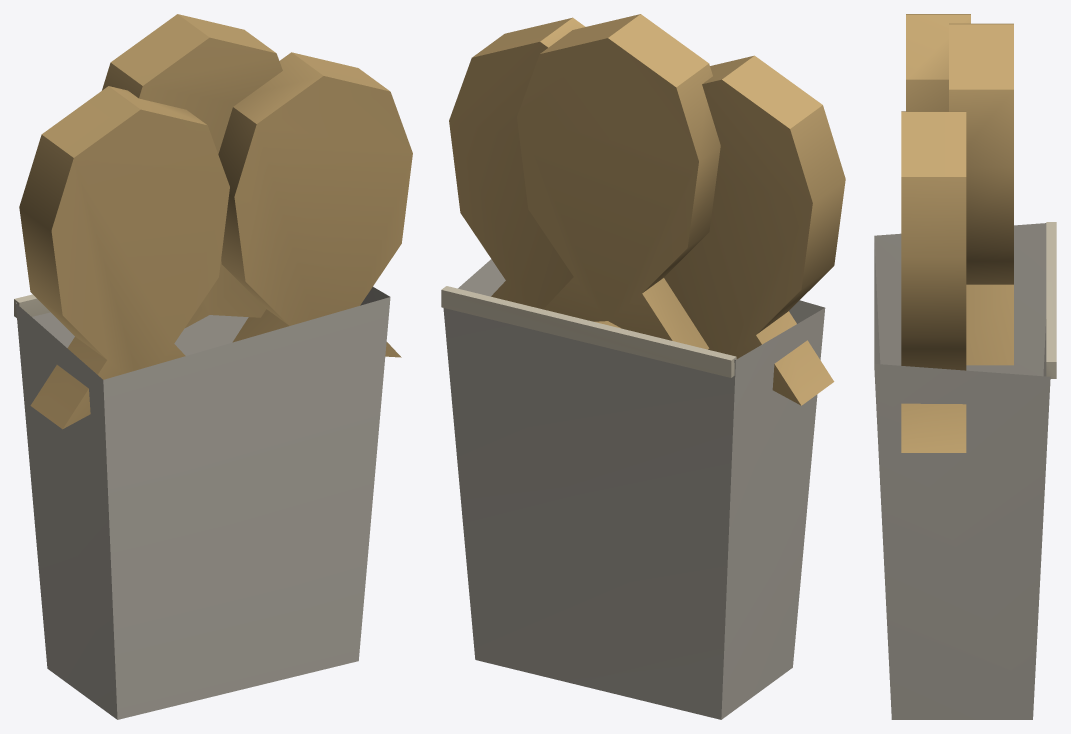
File: snack_fishbread_low.glb
3 views of the same model, side by side, from view 1: azimuth 30°, elevation 25°; view 2: azimuth 150°, elevation 25°; view 3: azimuth 270°, elevation 25° (orthographic). The views are drawn at different scales.
Visible parts, largest first — view 1: snack_fishbread; view 2: snack_fishbread; view 3: snack_fishbread.
Part boxes in pixels (x1,y1,x2,y2): snack_fishbread: (14,14,412,719); snack_fishbread: (441,14,845,719); snack_fishbread: (874,14,1056,719).
Bounding box in the file's own units: 0.0875 × 0.1472 × 0.0383.
